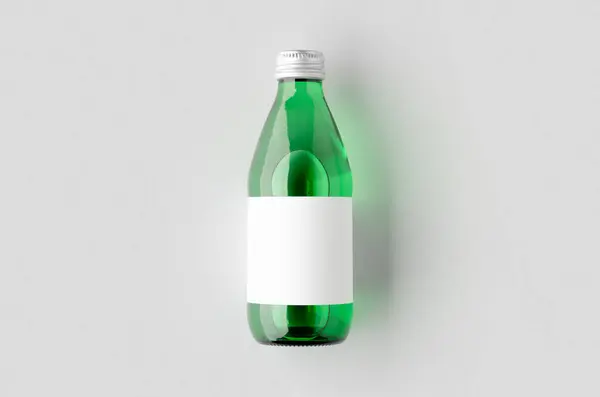glass_bottle: (235, 40, 371, 360)
